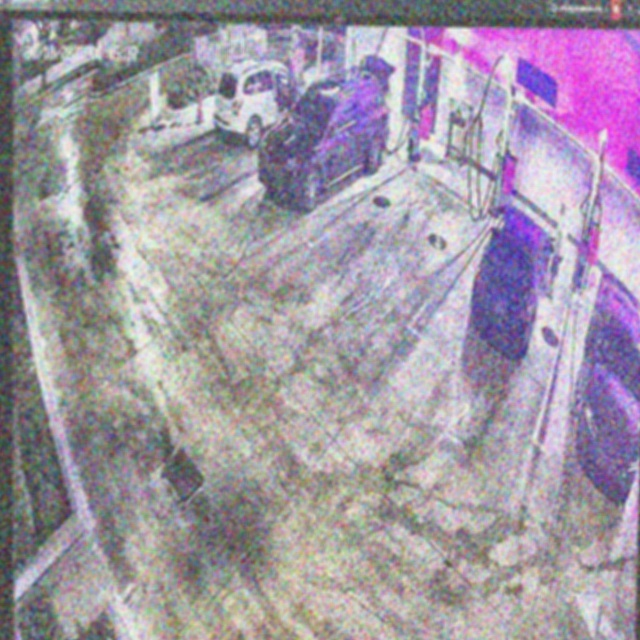Car: (258, 55, 394, 213), (470, 203, 555, 360), (214, 56, 315, 144)
